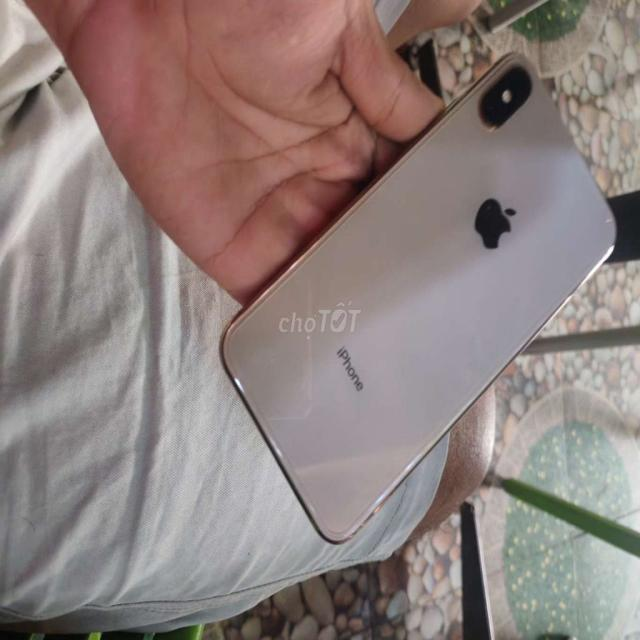gen_x_xs: (217, 46, 618, 547)
